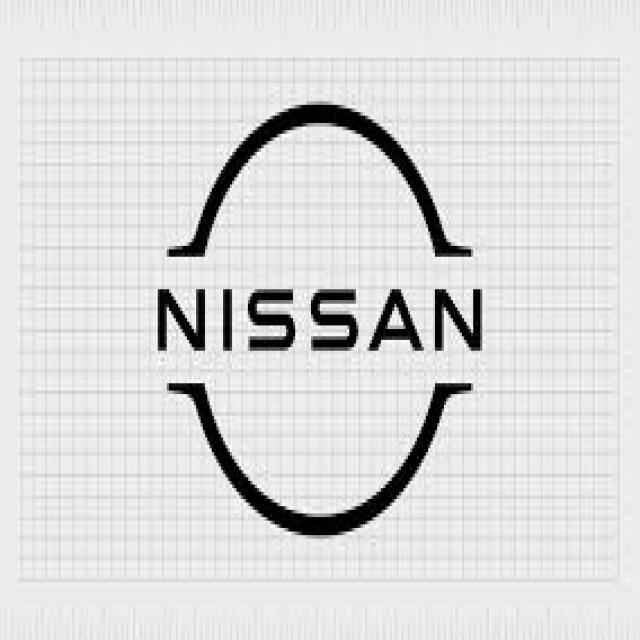nissan: (156, 100, 487, 540)
